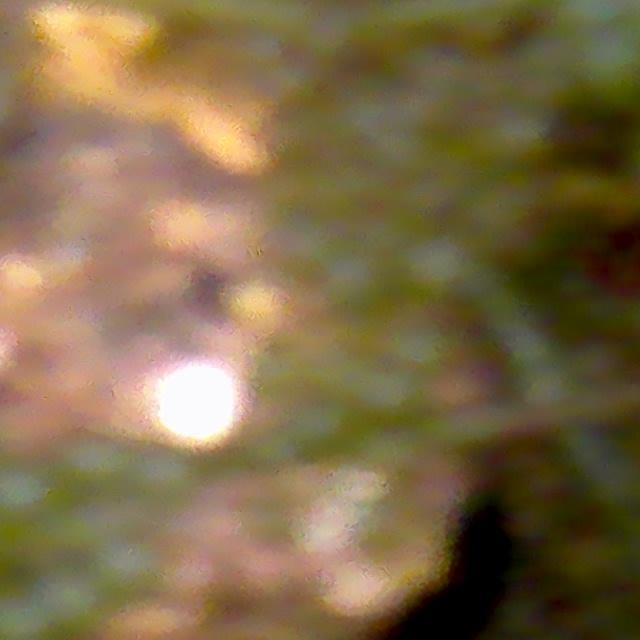SeaGrape: (570, 26, 640, 110), (61, 429, 135, 498), (0, 458, 63, 526)
